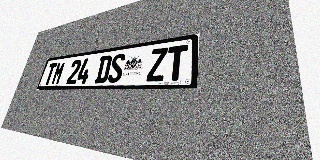2: (66, 59, 82, 84)
4: (76, 58, 93, 84)
D: (94, 55, 113, 83)
M: (51, 61, 66, 85)
S: (107, 53, 126, 83)
T: (165, 44, 188, 81), (43, 63, 58, 85)
Z: (146, 47, 168, 82)
